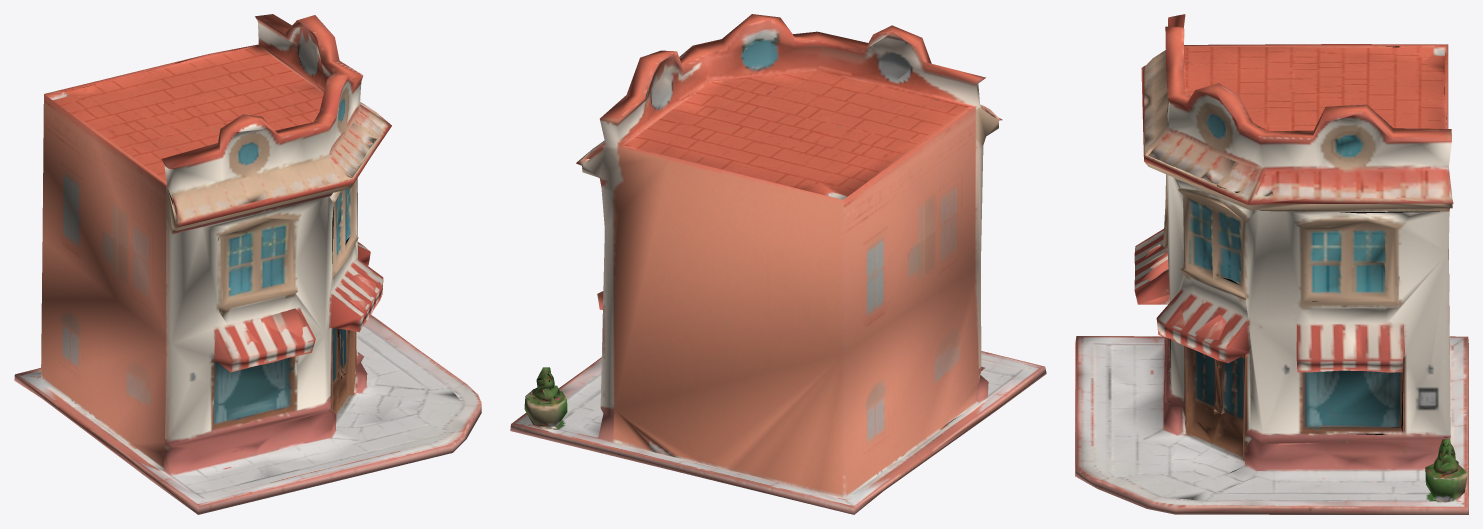
File: townhouse.fbx
3 renders of one model, left to right at view 1: azimuth 30°, elevation 25°; view 2: azimuth 150°, elevation 25°; view 3: azimuth 270°, elevation 25°, orthographic. The views are drawn at different scales.
Parts seen in each view (by area): view 1: Major_townhouse; view 2: Major_townhouse; view 3: Major_townhouse.
Part boxes in pixels (x1,y1,x2,y2): Major_townhouse: [14, 14, 481, 514]; Major_townhouse: [510, 14, 1046, 514]; Major_townhouse: [1075, 14, 1468, 514].
Size of the model in its own units: 4.59 by 4.54 by 4.45.
1 material, 1 textured.
